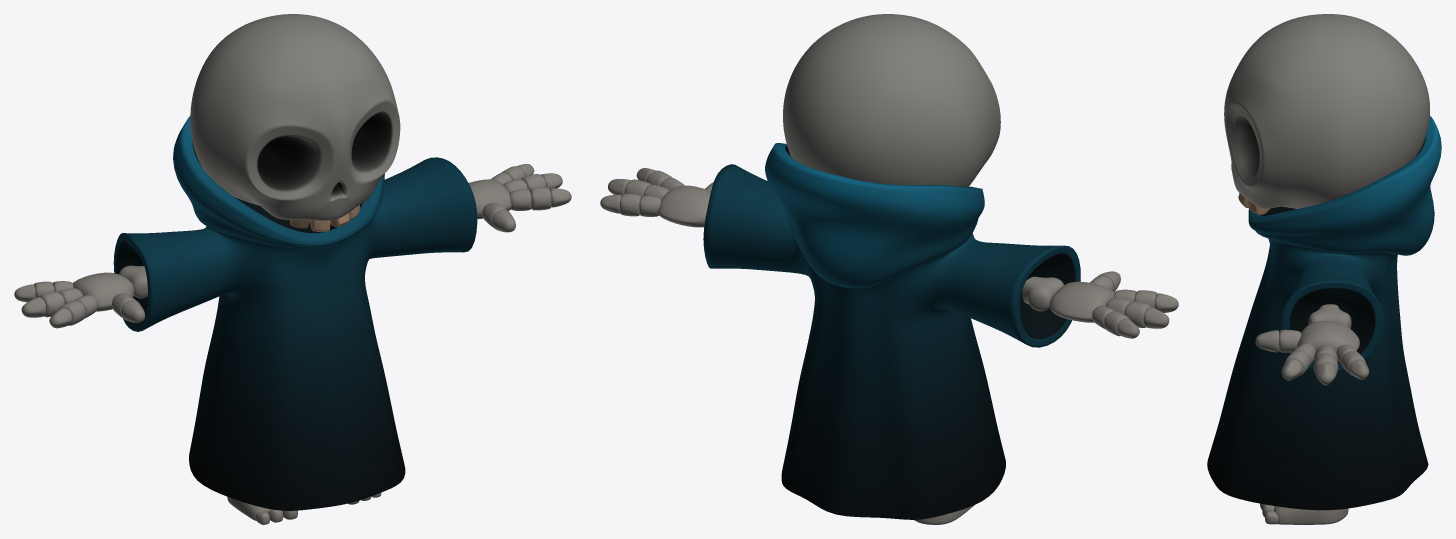
File: skelleton_character.glb
3 views of the same model, side by side, from view 1: azimuth 30°, elevation 25°; view 2: azimuth 150°, elevation 25°; view 3: azimuth 270°, elevation 25° (orthographic). The views are drawn at different scales.
Parts seen in each view (by area): view 1: SkullCharacter; view 2: SkullCharacter; view 3: SkullCharacter.
Part boxes in pixels (box(x1,y1,x2,y2)): SkullCharacter: box(14, 14, 571, 524); SkullCharacter: box(600, 14, 1178, 524); SkullCharacter: box(1207, 14, 1441, 524).
Size of the model in its own units: 3.89 by 3.2 by 1.45.
4 materials, 2 textured.
